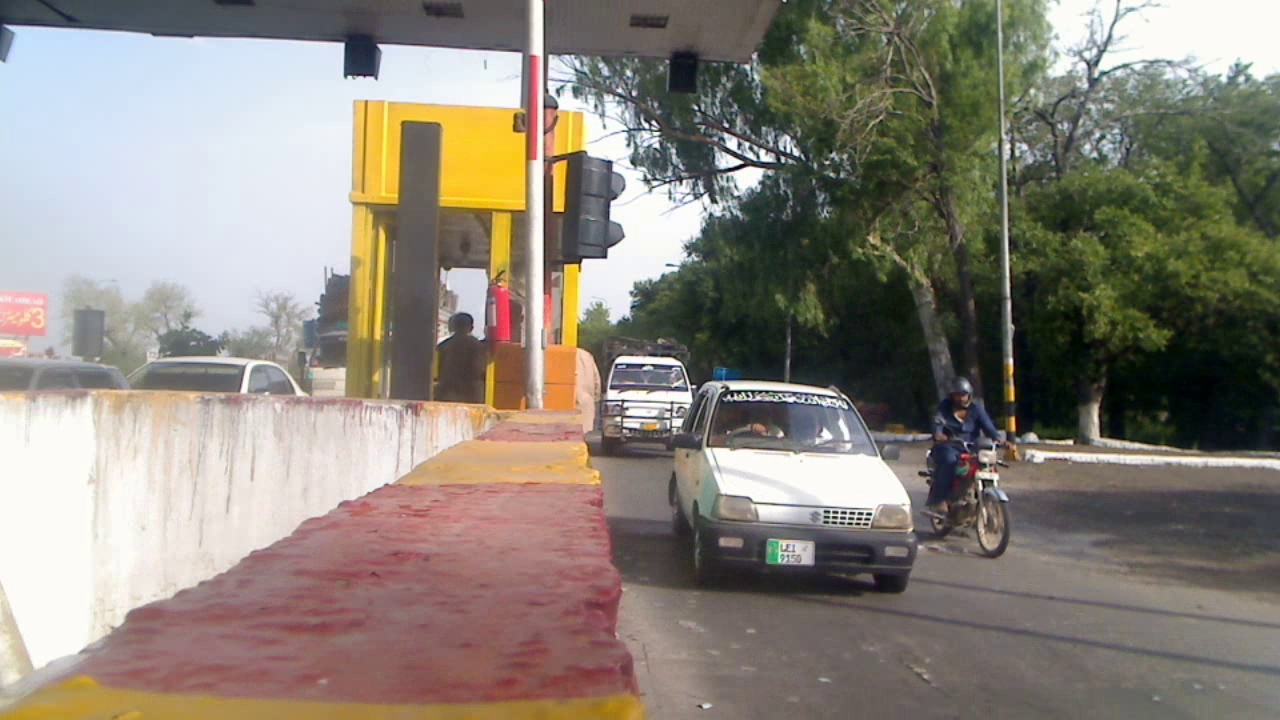Number Plate (Car): (770, 540, 813, 564)
